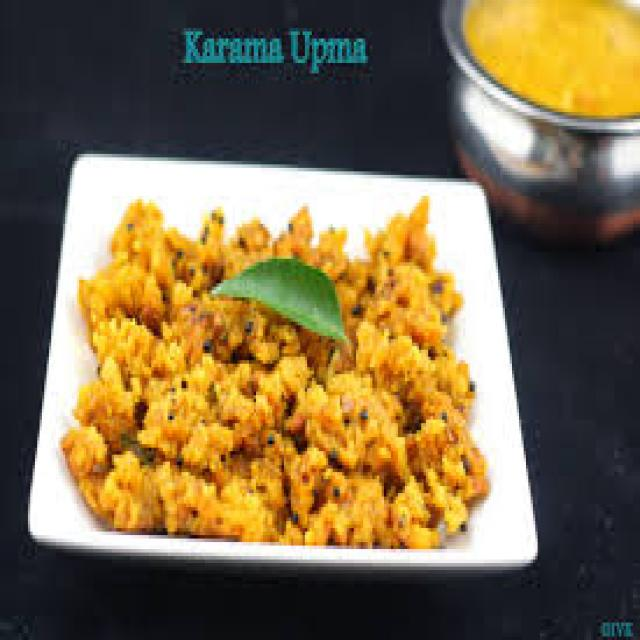UPMA: (58, 192, 484, 546)
